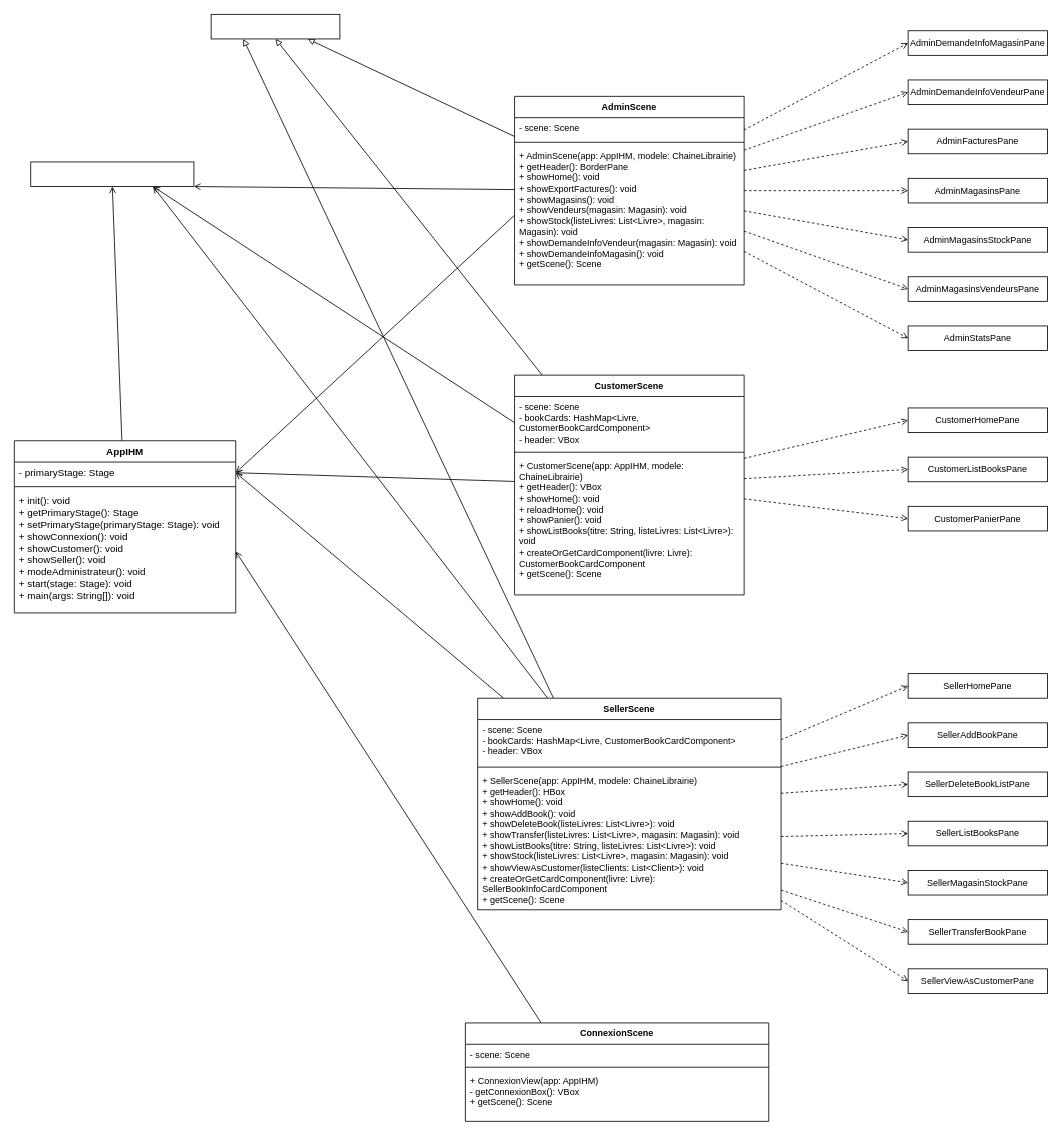
The diagram is 1062 pixels wide and 1138 high, and some of its shapes have lost their labels. Here are the shapes that lost their labels. From the top down, the centre of each, then its label:
(x=275, y=26): BorderPane
(x=112, y=174): ChaineLibrairie (Modèle)
